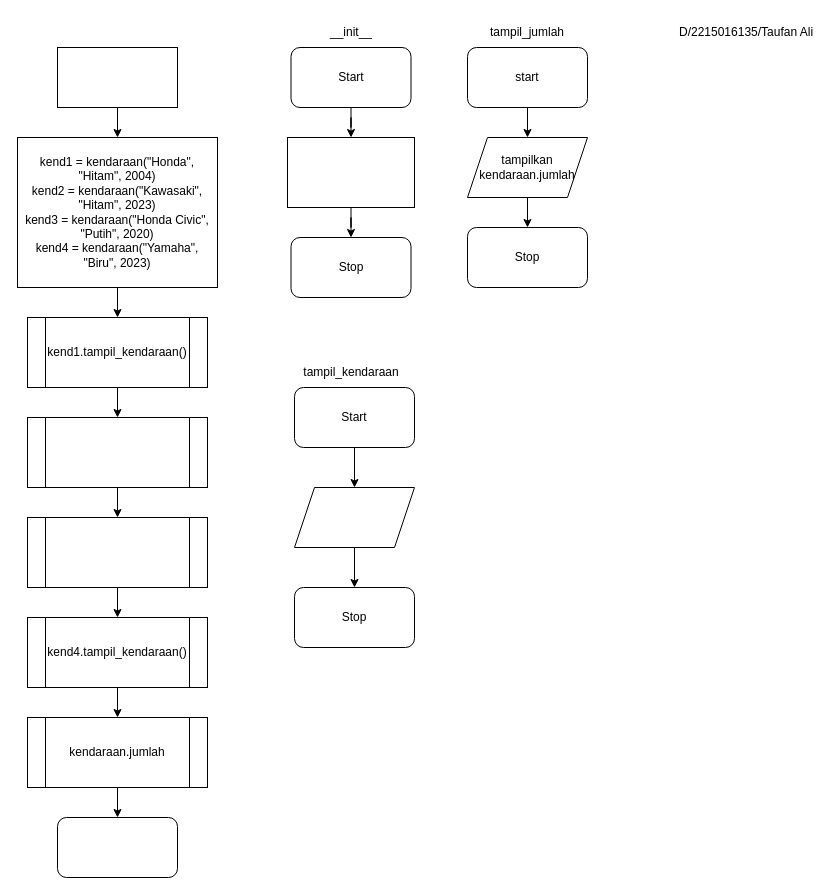
The diagram is 832 pixels wide and 895 high, and some of its shapes have lost their labels. Each missing label, with the centre of its shape:
"class kendaraan()" belongs at point 117,77.
"End" belongs at point 117,847.
"kend.merk = merk kend.warna = warna kend.tahun = tahun kendaraan.jumlah += 1" belongs at point 350,172.
"kend2.tampil_kendaraan()" belongs at point 117,452.
"kend3.tampil_kendaraan()" belongs at point 117,552.
"tampilkan ken.merk, kend.warna, kend.tahun" belongs at point 354,517.
